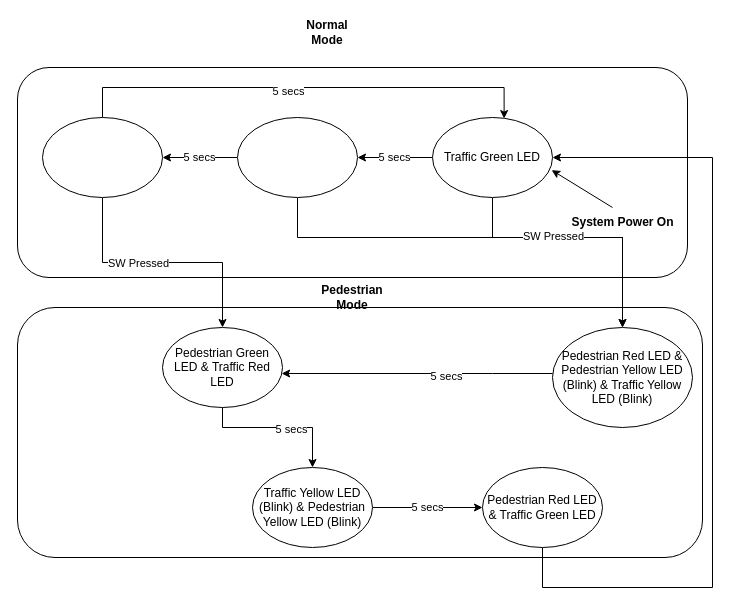
The diagram is 738 pixels wide and 613 high, and some of its shapes have lost their labels. Each missing label, with the centre of its shape:
"Traffic Red LED" belongs at (102,157).
"Traffic Yellow LED (Blink)" belongs at (297,157).
